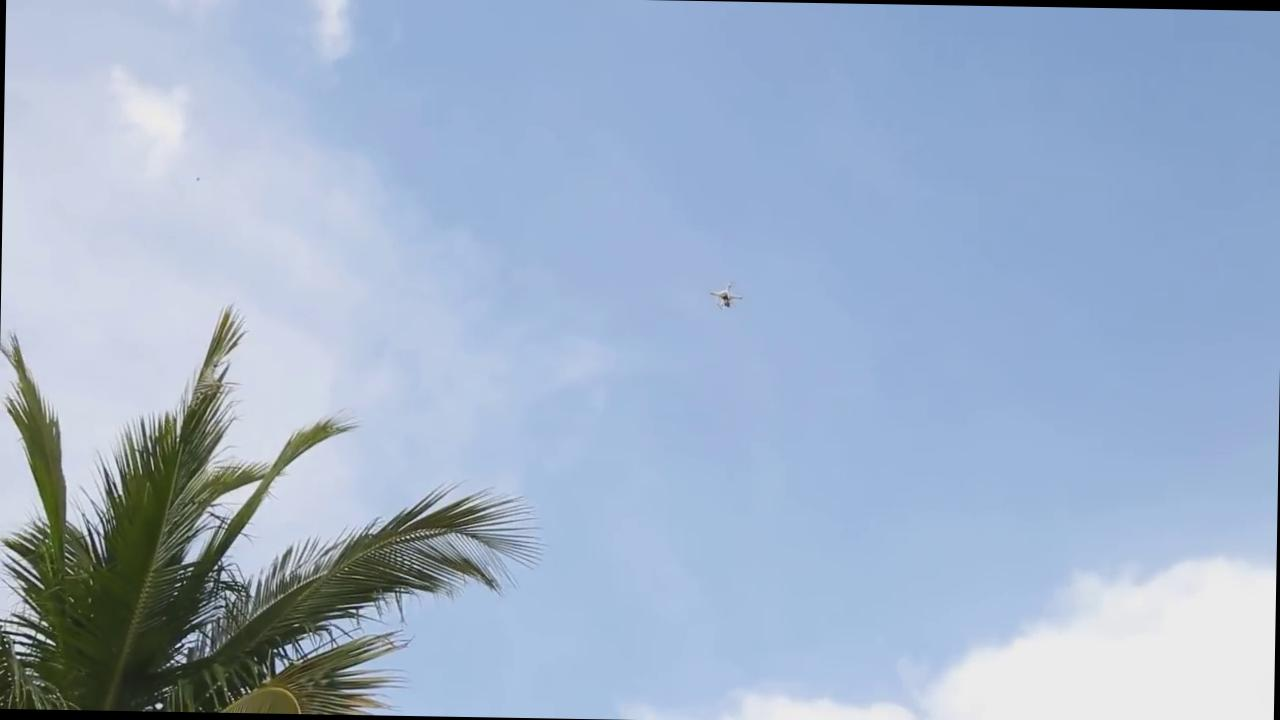drone: (708, 279, 748, 319)
